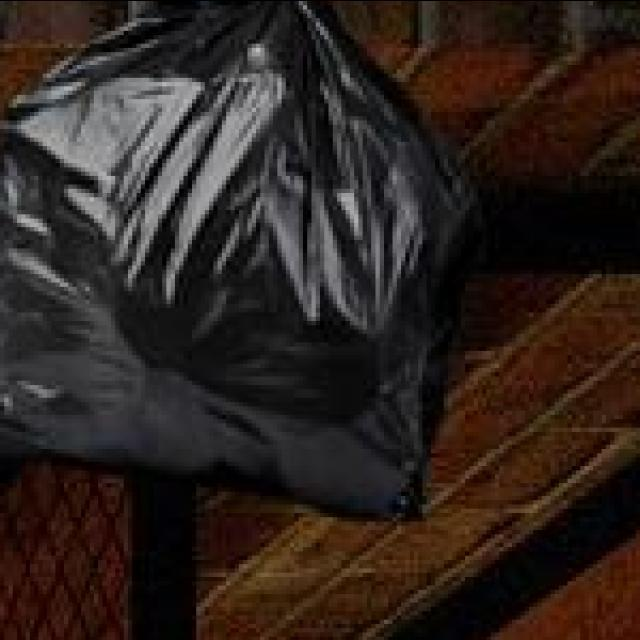Trashbag: (4, 0, 476, 530)
